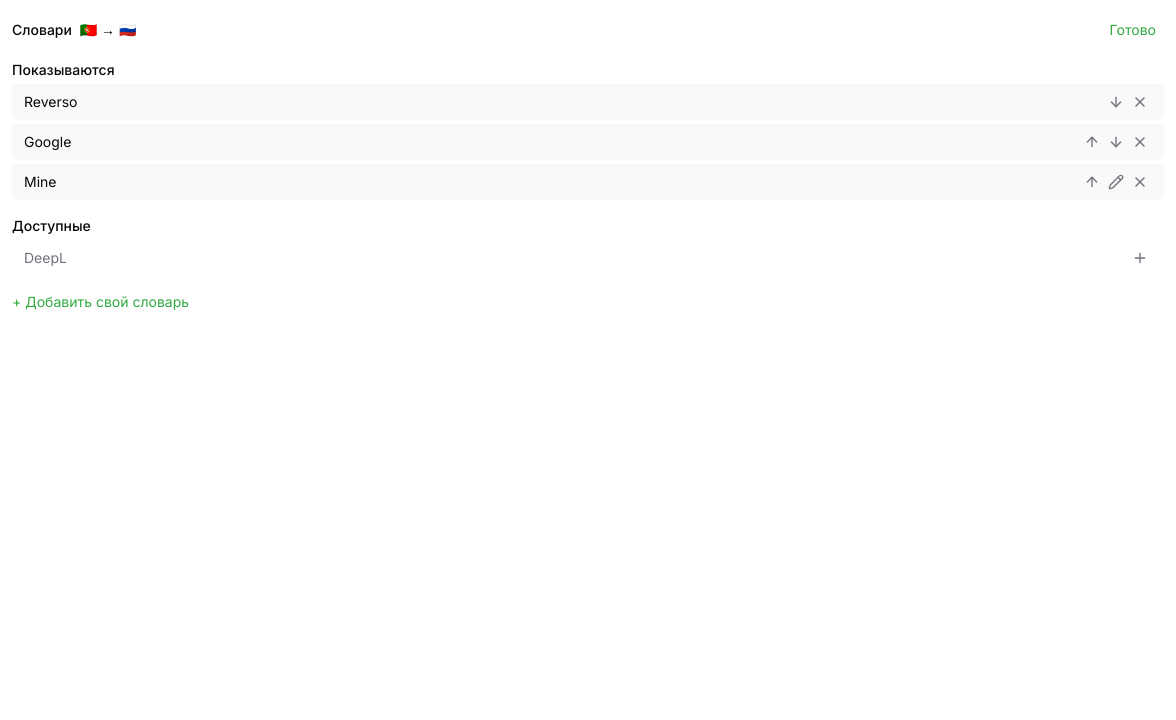
DictionarySettingsPanel › unknown error falls back to a generic message
Step 1. Click the button "+ Добавить свой словарь" → point(101, 302), box [12, 292, 189, 312]
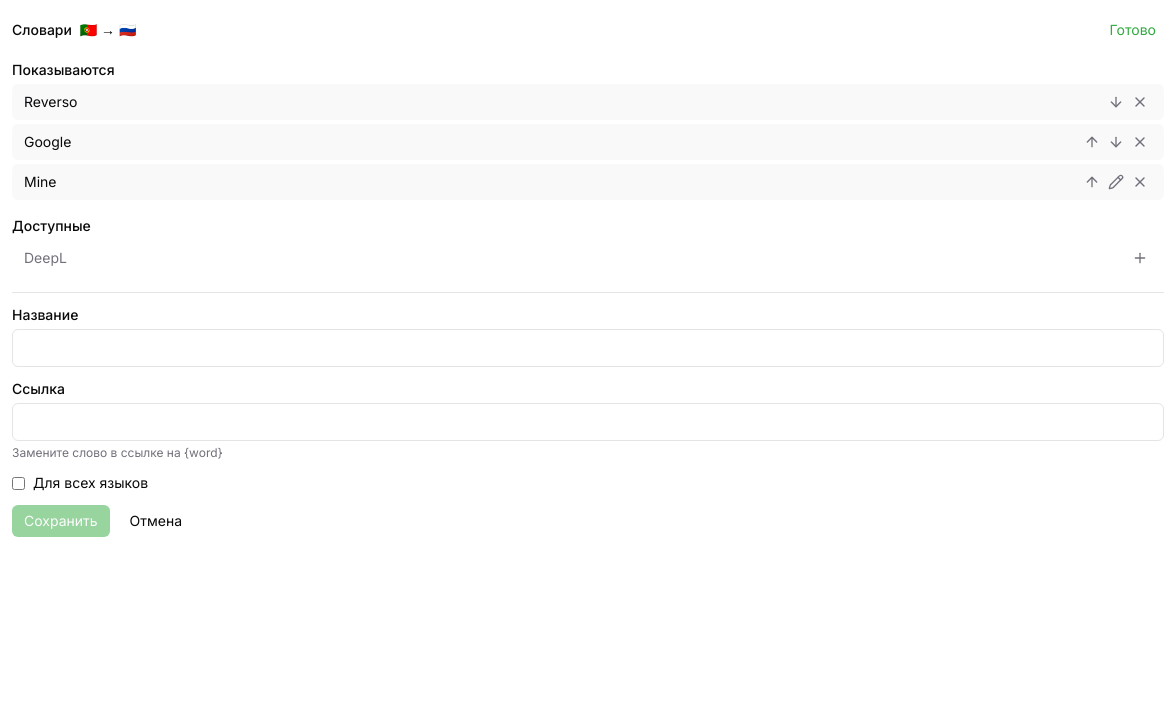
Step 2. Type "X" into the field labelled "Название" → point(588, 348), box [12, 329, 1164, 367]
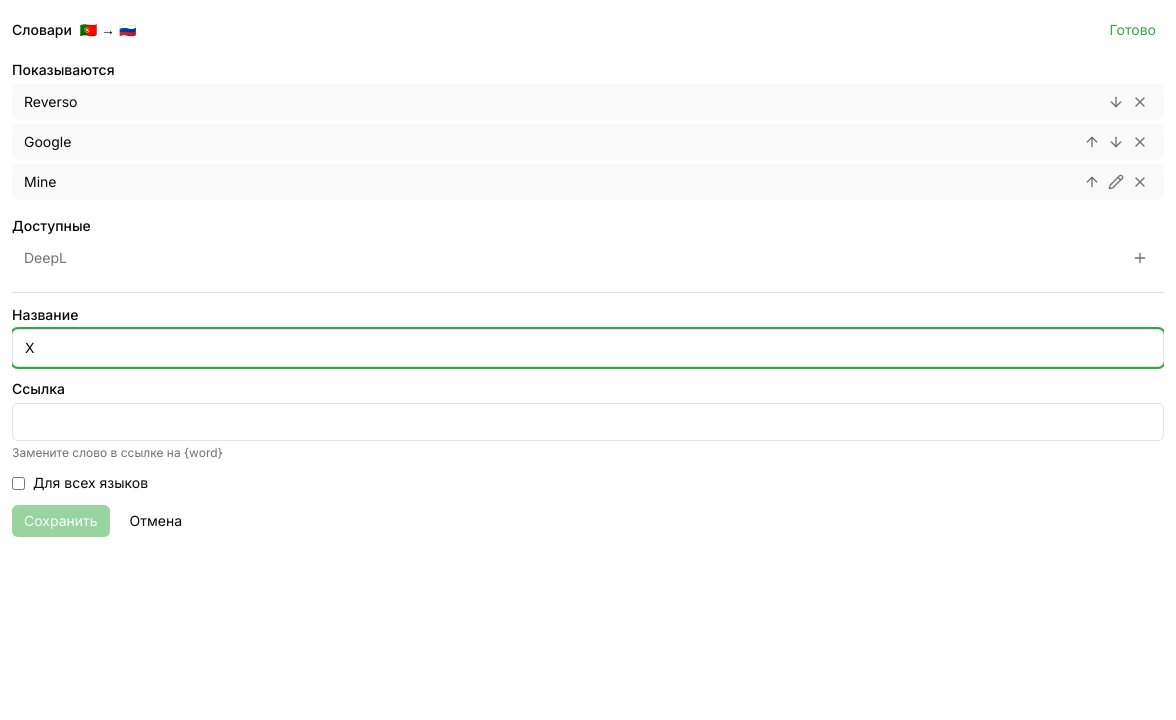
Step 3. Click the field labelled "Ссылка" → point(588, 422), box [12, 403, 1164, 441]
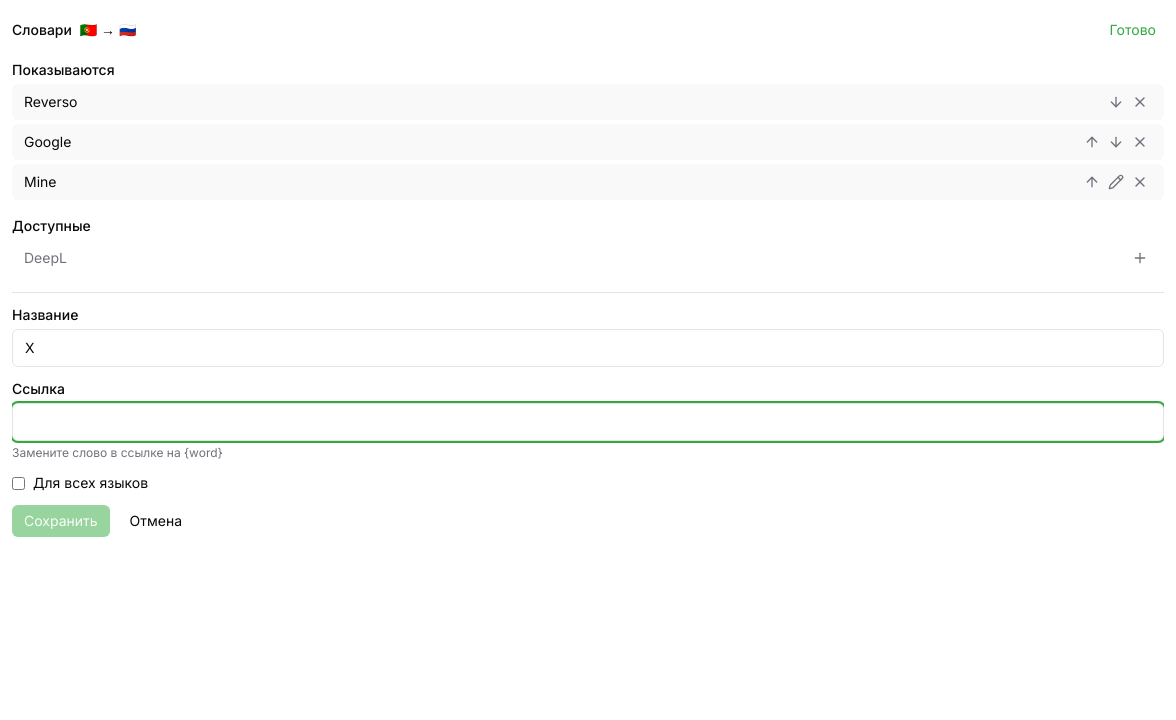
Step 4. Type keys "https://x.example/{word}"
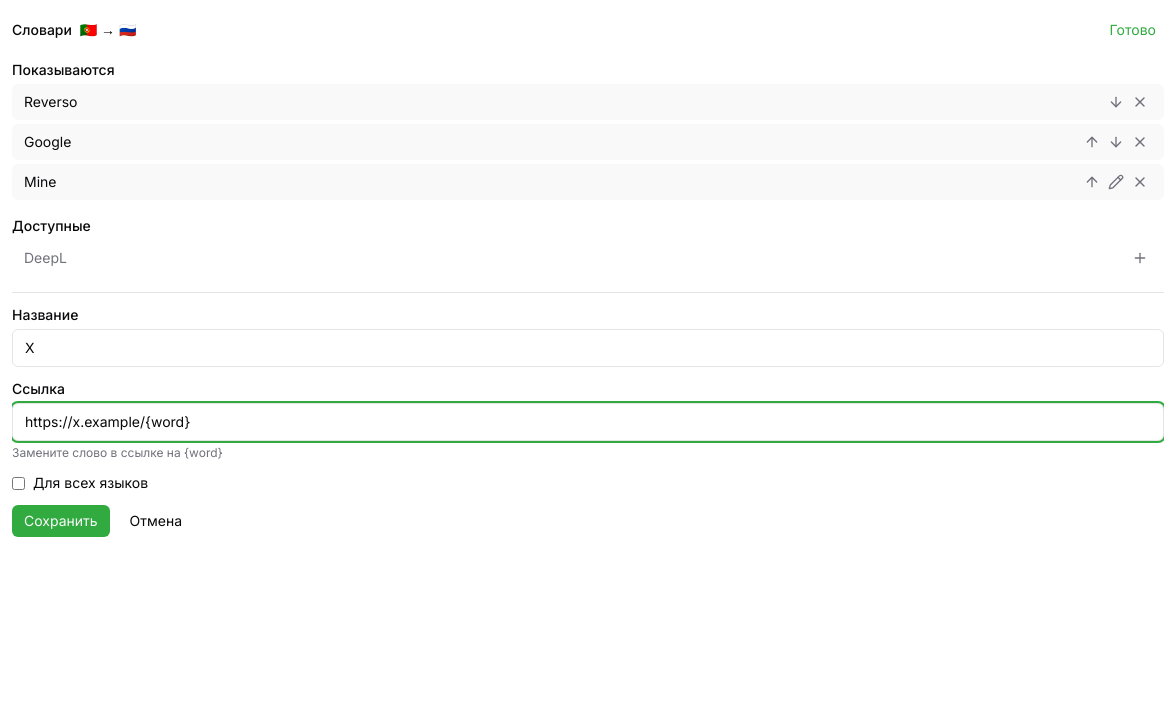
Step 5. Click the button "Сохранить" → point(61, 521), box [12, 505, 110, 537]
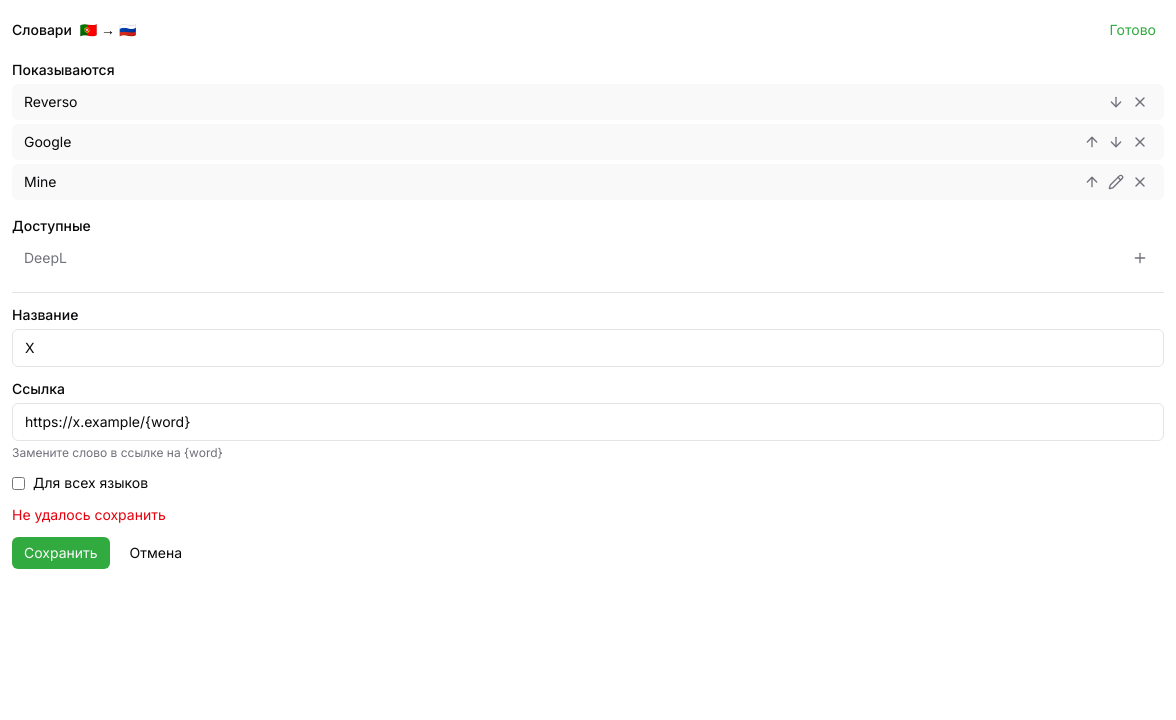
Expected: the message reads "Не удалось сохранить", [12, 506, 166, 523]
